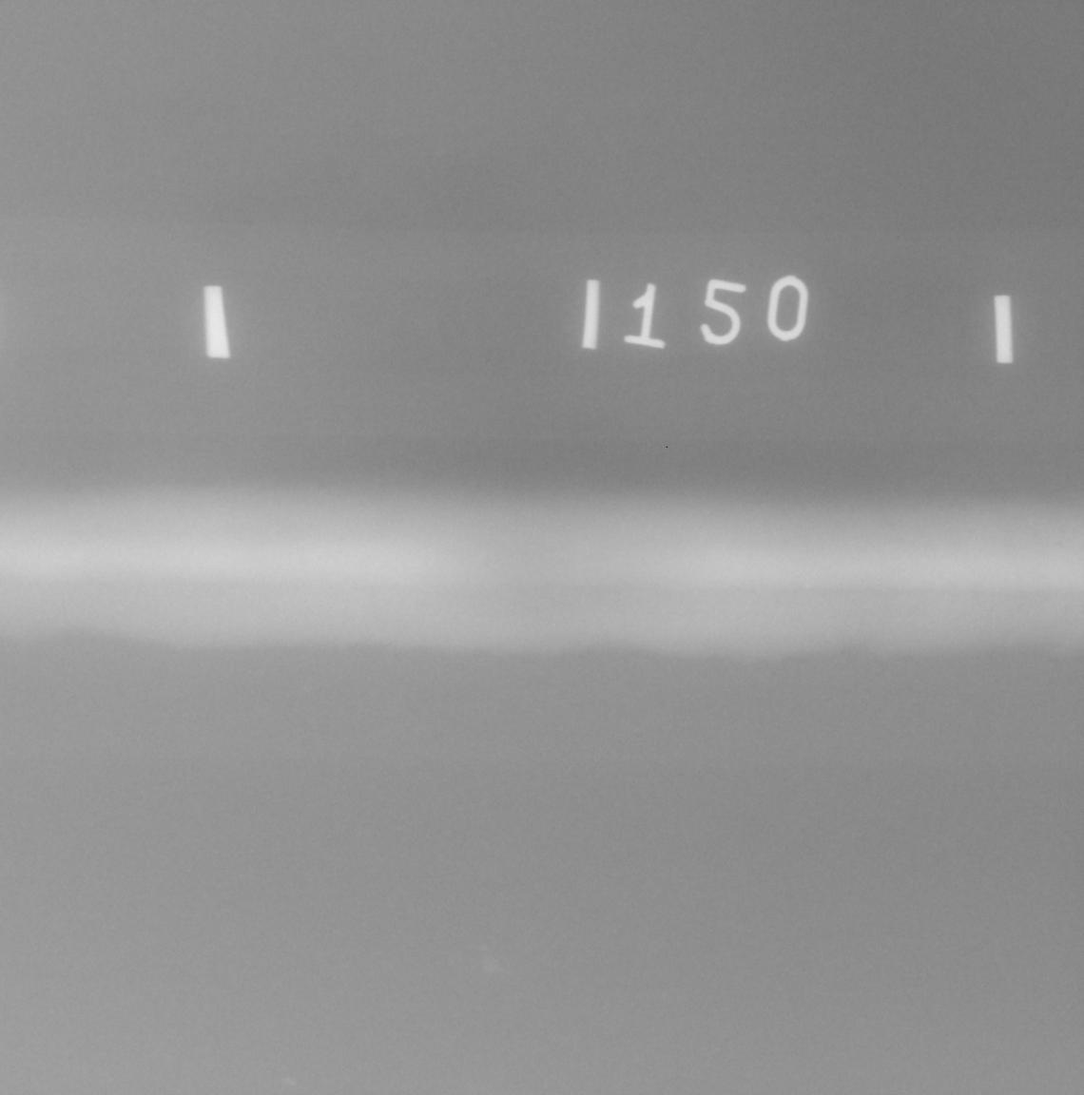Pore/Porosity: (1058, 541, 1064, 546)
